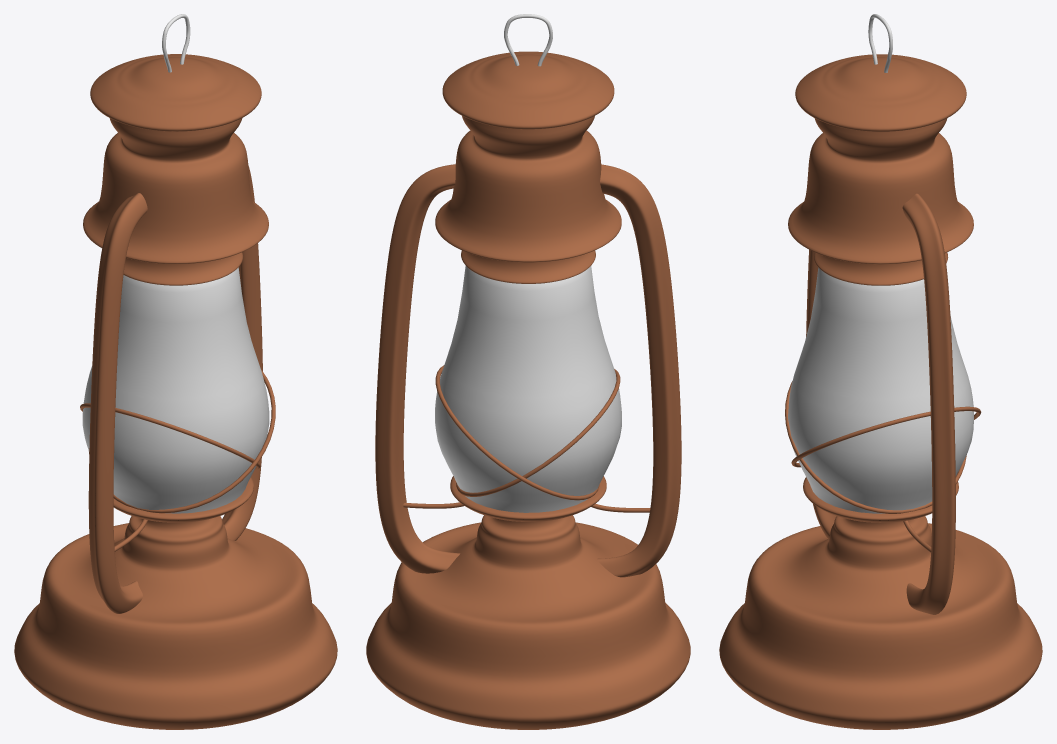
Rendered from uploads_files_3561673_10.Lamp.fbx.
3 renders of one model, left to right at view 1: azimuth 30°, elevation 25°; view 2: azimuth 150°, elevation 25°; view 3: azimuth 270°, elevation 25°, orthographic.
Visible parts, largest first — view 1: Плоскость.001, Плоскость, стеклооо, ТраекторияNurbs, ТраекторияNurbs.001, ОкружностьБезье.005, ОкружностьБезье.004, ТраекторияNurbs.002; view 2: Плоскость.001, стеклооо, Плоскость, ТраекторияNurbs, ТраекторияNurbs.001, ОкружностьБезье.005, ОкружностьБезье.004, ТраекторияNurbs.002; view 3: Плоскость.001, Плоскость, стеклооо, ТраекторияNurbs.001, ОкружностьБезье.004, ТраекторияNurbs, ОкружностьБезье.005.
Boxes of the visible parts, box(x1,y1,x2,y2) form: Плоскость.001: box(14, 477, 337, 729); Плоскость: box(83, 54, 268, 285); стеклооо: box(82, 267, 269, 513); ТраекторияNurbs: box(88, 193, 147, 613); ТраекторияNurbs.001: box(222, 165, 262, 540); ОкружностьБезье.005: box(89, 369, 275, 513); ОкружностьБезье.004: box(80, 403, 260, 469); ТраекторияNurbs.002: box(162, 14, 190, 72); Плоскость.001: box(366, 476, 690, 729); стеклооо: box(435, 266, 621, 512); Плоскость: box(435, 51, 621, 283); ТраекторияNurbs: box(597, 164, 681, 577); ТраекторияNurbs.001: box(375, 164, 460, 573); ОкружностьБезье.005: box(435, 365, 599, 500); ОкружностьБезье.004: box(456, 369, 620, 496); ТраекторияNurbs.002: box(504, 14, 552, 66); Плоскость.001: box(719, 477, 1042, 729); Плоскость: box(788, 54, 973, 285); стеклооо: box(788, 267, 973, 513); ТраекторияNurbs.001: box(902, 193, 955, 614); ОкружностьБезье.004: box(785, 381, 966, 513); ТраекторияNurbs: box(806, 249, 836, 538); ОкружностьБезье.005: box(791, 406, 981, 467).
Size of the model in its own units: 370 by 844 by 370.
